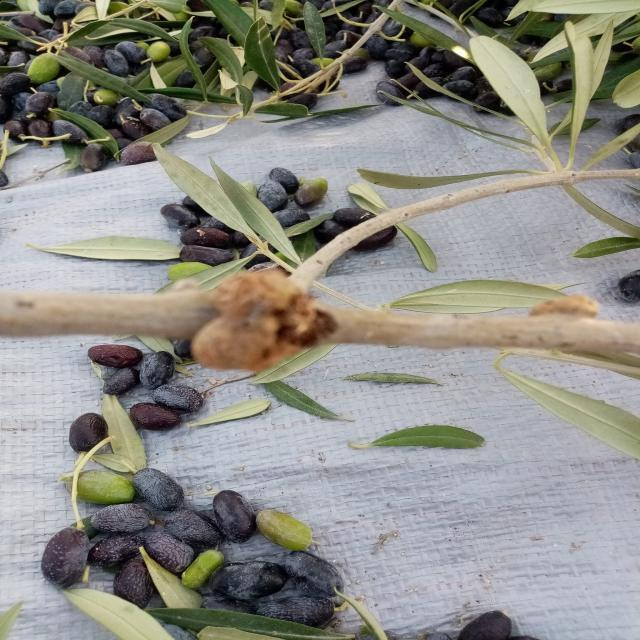Tuberculosis: (192, 269, 338, 374)
